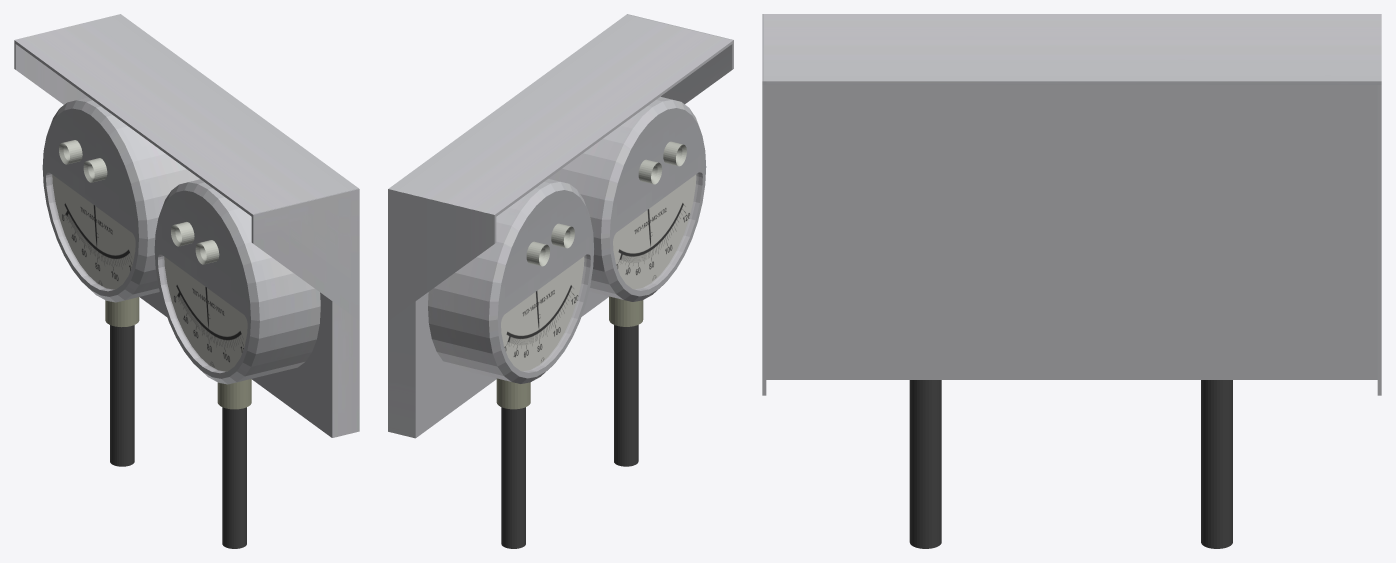
Rendered from temp2_defect.fbx.
3 views of the same model, side by side, from view 1: azimuth 30°, elevation 25°; view 2: azimuth 150°, elevation 25°; view 3: azimuth 270°, elevation 25° (orthographic). The views are drawn at different scales.
Visible parts, largest first — view 1: Cylinder.011, Cylinder.015; view 2: Cylinder.011, Cylinder.015; view 3: Cylinder.011.
Boxes of the visible parts, x1,y1,x2,y2 form: Cylinder.011: (14,14,359,548); Cylinder.015: (51,174,247,371); Cylinder.011: (388,14,733,548); Cylinder.015: (501,174,698,371); Cylinder.011: (762,14,1381,548).
Bounding box in the file's own units: 7.78 × 26.93 × 30.24.
Materials: 9 (4 with a texture image).
